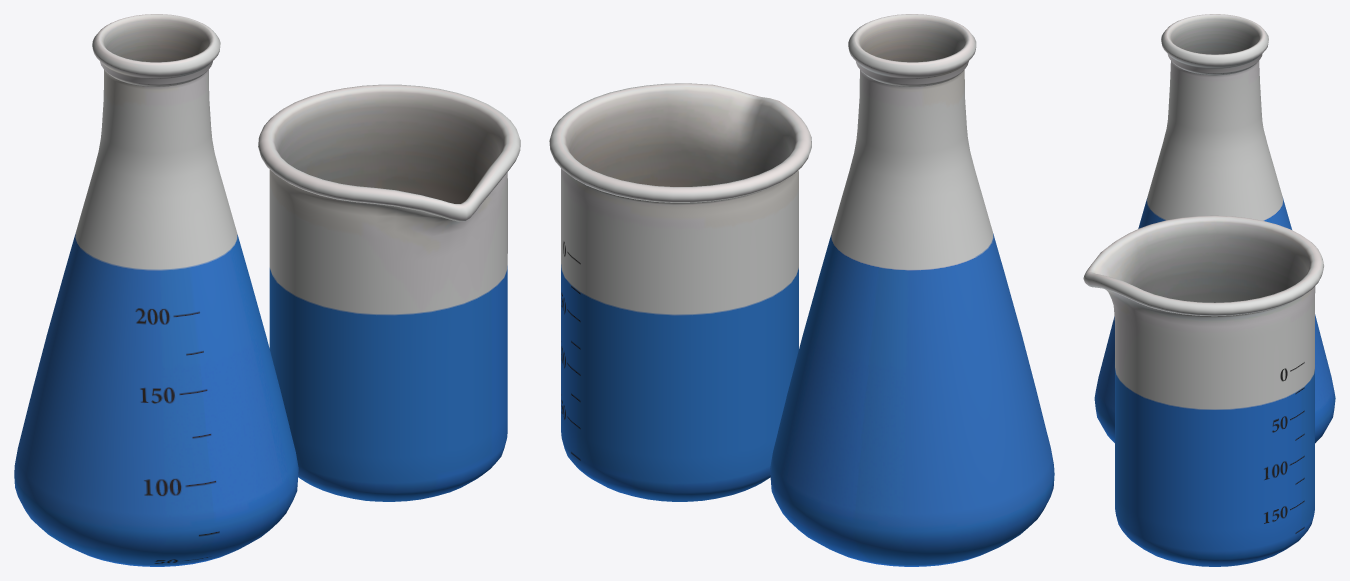
The model's file is Beaker and Flask.fbx.
3 renders of one model, left to right at view 1: azimuth 30°, elevation 25°; view 2: azimuth 150°, elevation 25°; view 3: azimuth 270°, elevation 25°, orthographic. The views are drawn at different scales.
Visible parts, largest first — view 1: node_id5; view 2: node_id5; view 3: node_id5.
Part boxes in pixels (x1,y1,x2,y2): node_id5: [14, 14, 520, 566]; node_id5: [549, 14, 1054, 566]; node_id5: [1083, 14, 1335, 566].
Bounding box in the file's own units: 0.512 × 0.5067 × 0.2837.
1 material, 1 textured.
